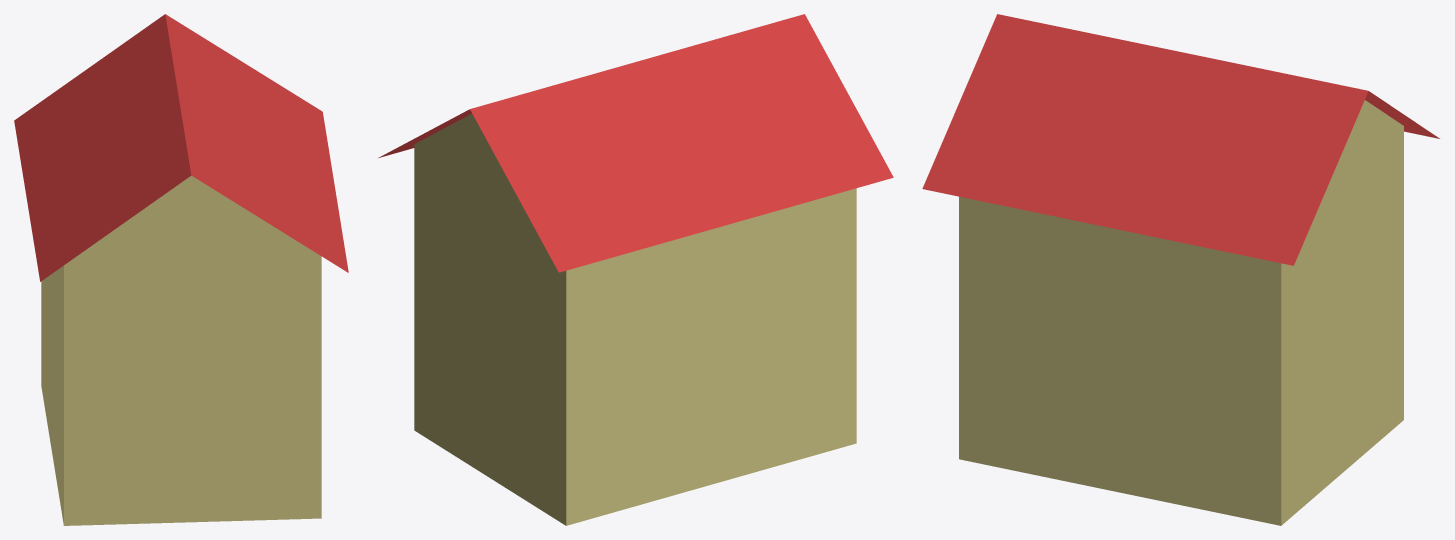
The picture shows the model from 3 angles, left to right: view 1: azimuth 30°, elevation 25°; view 2: azimuth 150°, elevation 25°; view 3: azimuth 270°, elevation 25°; orthographic projection. The views are drawn at different scales.
Size of the model in its own units: 8.75 by 9.41 by 7.73.
